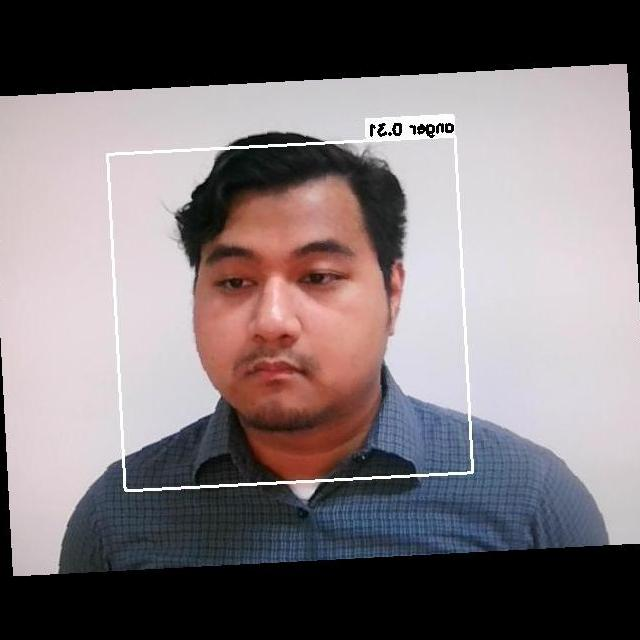Natural: (200, 225, 388, 404)
